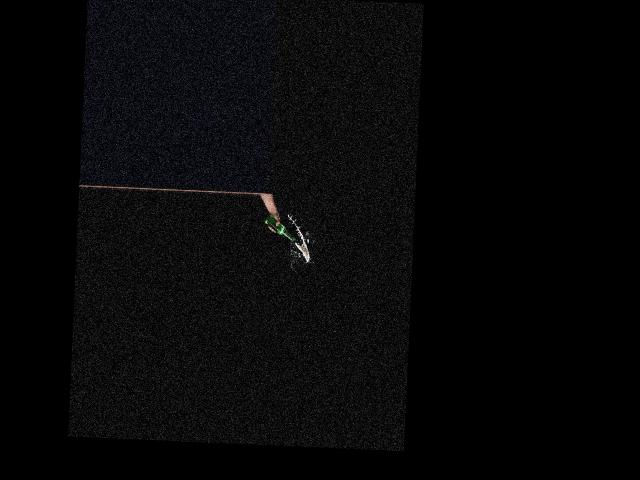beer: (262, 215, 295, 242)
